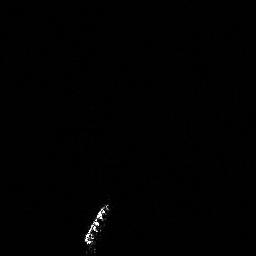ship: (79, 198, 116, 249)
